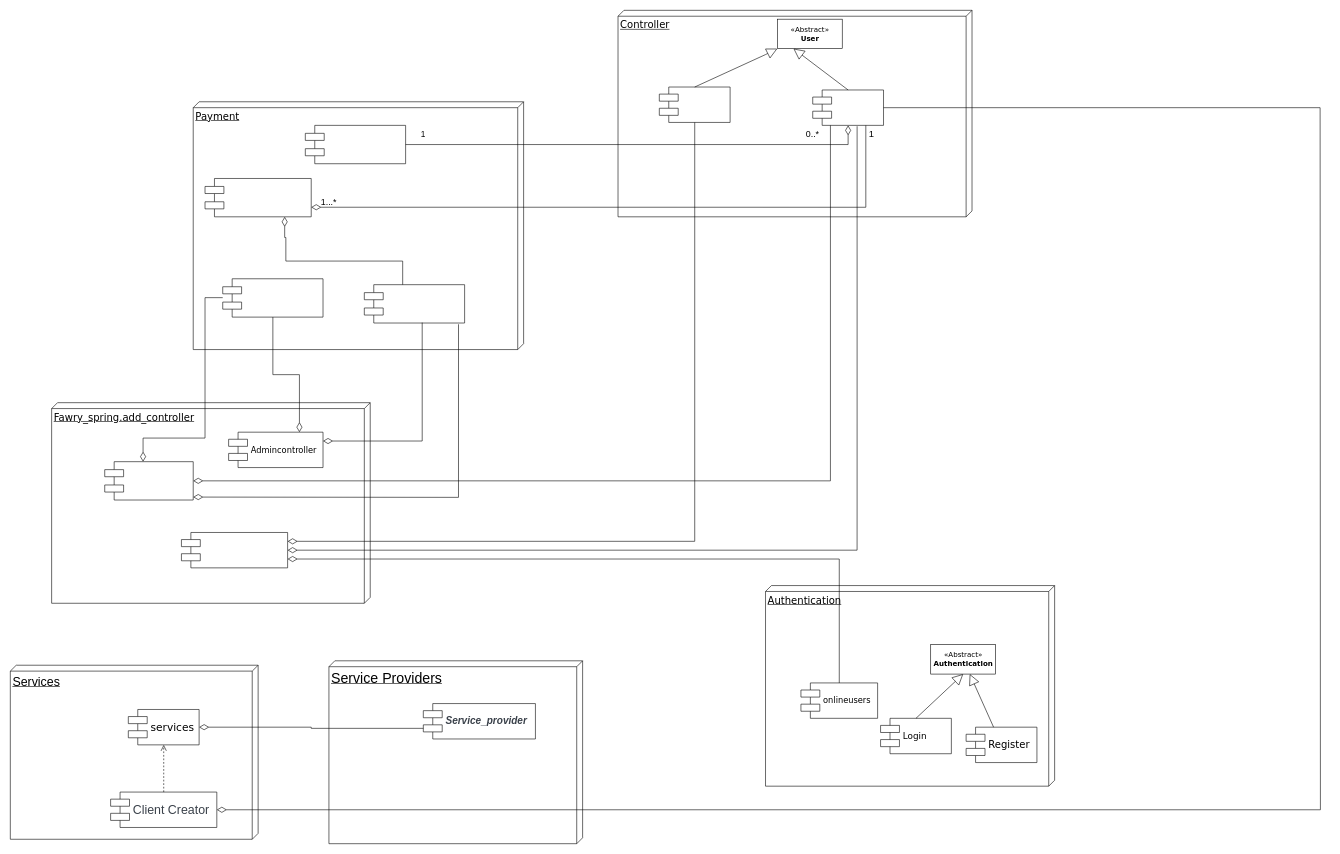
The diagram is 1340 pixels wide and 854 high, and some of its shapes have lost their labels. Each missing label, with the centre of its shape:
"Admin" goes at (694,104).
"Client" goes at (848,107).
"Clientcontroller" goes at (148,480).
"DiscountList" goes at (414,303).
"Myappcontroller" goes at (234,550).
"Order" goes at (355,144).
"Payment_method" goes at (257,197).
"Transactions" goes at (272,297).
